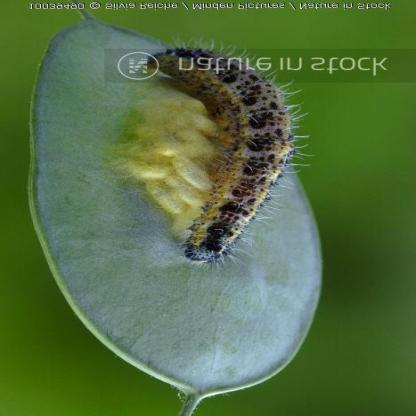pieris: (136, 43, 294, 263)
